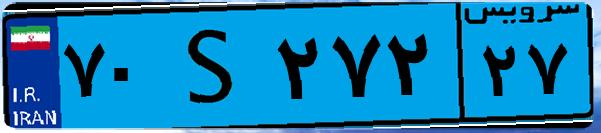0: (110, 28, 158, 98)
2: (270, 28, 330, 110), (385, 28, 445, 110), (475, 38, 525, 113)
7: (330, 28, 385, 110), (57, 26, 110, 100), (525, 38, 570, 115)
S: (158, 12, 270, 120)
